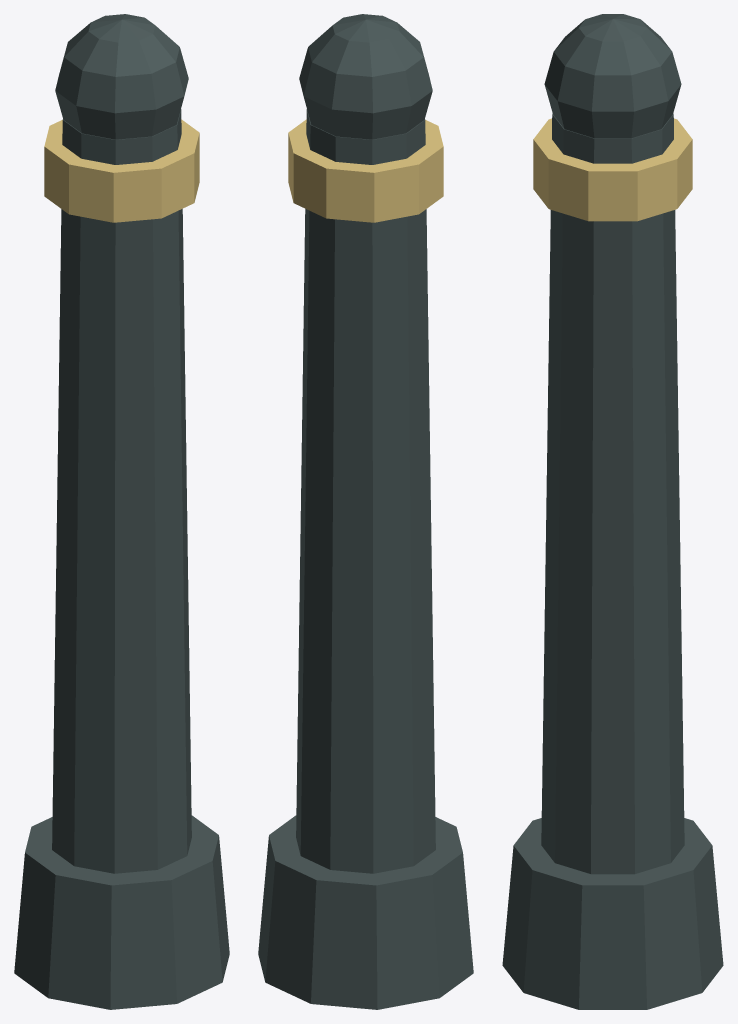
File: Paris_Bollard.fbx
3 views of the same model, side by side, from view 1: azimuth 30°, elevation 25°; view 2: azimuth 150°, elevation 25°; view 3: azimuth 270°, elevation 25° (orthographic).
Visible parts, largest first — view 1: Paris_Bollard; view 2: Paris_Bollard; view 3: Paris_Bollard.
Boxes of the visible parts, x1,y1,x2,y2 form: Paris_Bollard: (14,14,229,1009); Paris_Bollard: (258,14,473,1009); Paris_Bollard: (502,14,723,1009).
Bounding box in the file's own units: 0.1902 × 0.945 × 0.2.
